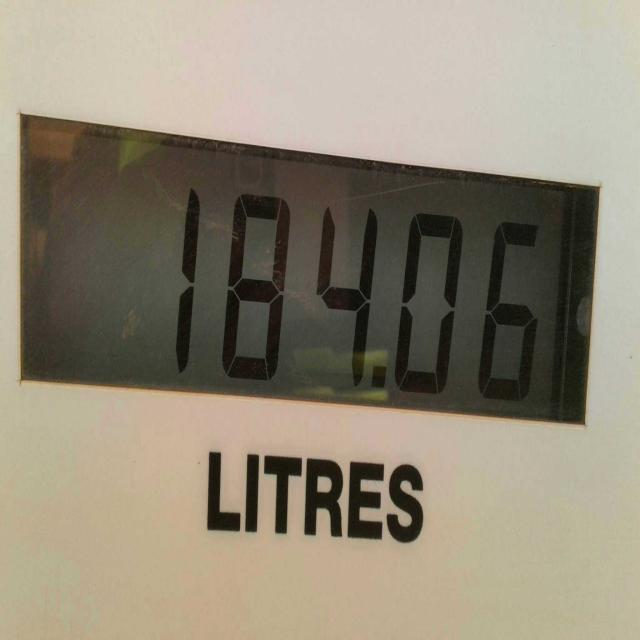.: (370, 364, 388, 396)
0: (399, 213, 462, 393)
1: (177, 191, 199, 373)
4: (319, 206, 372, 384)
6: (483, 221, 541, 398)
8: (225, 193, 288, 384)
